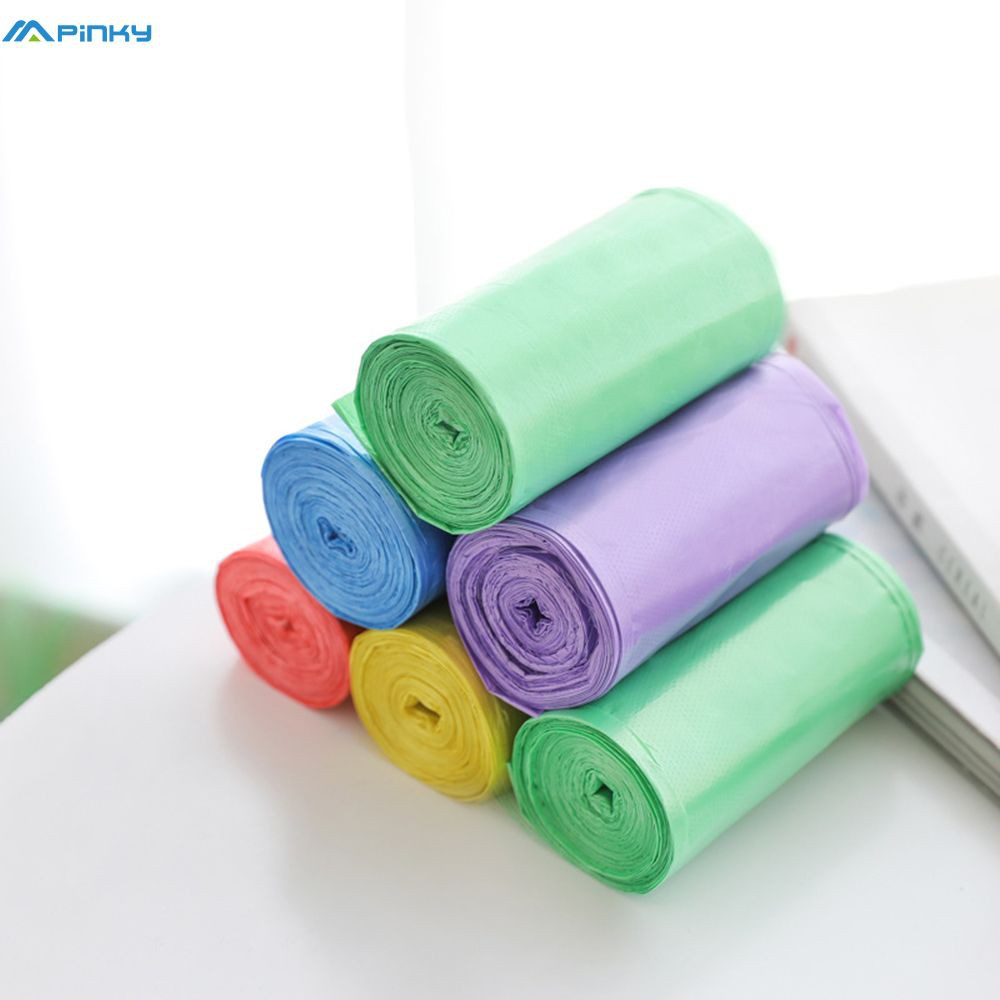plastic_bagwdw: (343, 203, 929, 735), (473, 488, 963, 970), (317, 127, 827, 567), (221, 292, 490, 681), (141, 508, 401, 856), (312, 541, 520, 873)
